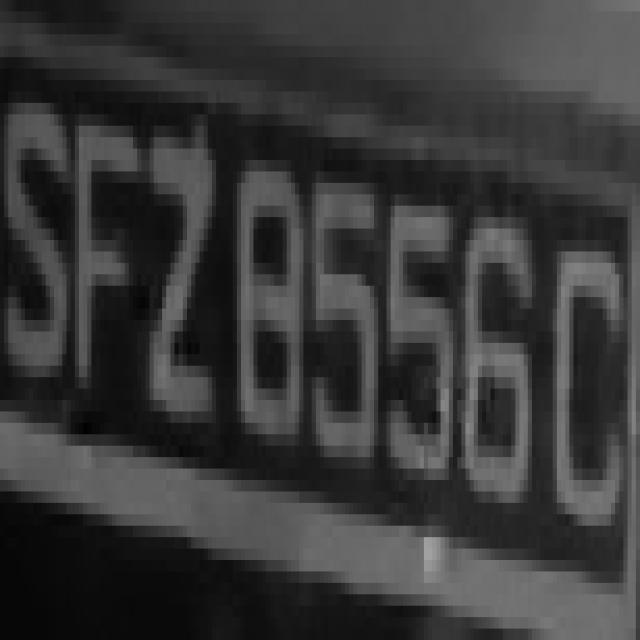5: (374, 137, 461, 503), (308, 149, 382, 514)
6: (461, 148, 532, 548)
8: (228, 126, 304, 468)
C: (544, 194, 628, 560)
F: (67, 57, 137, 434)
S: (0, 45, 66, 480)
Z: (137, 69, 225, 468)
